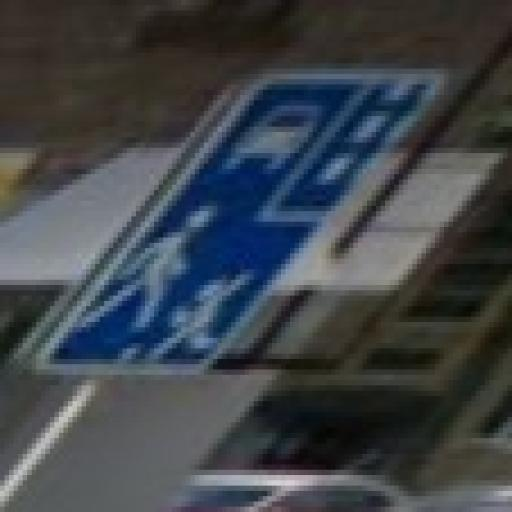traffic_sign: (28, 70, 445, 381)
